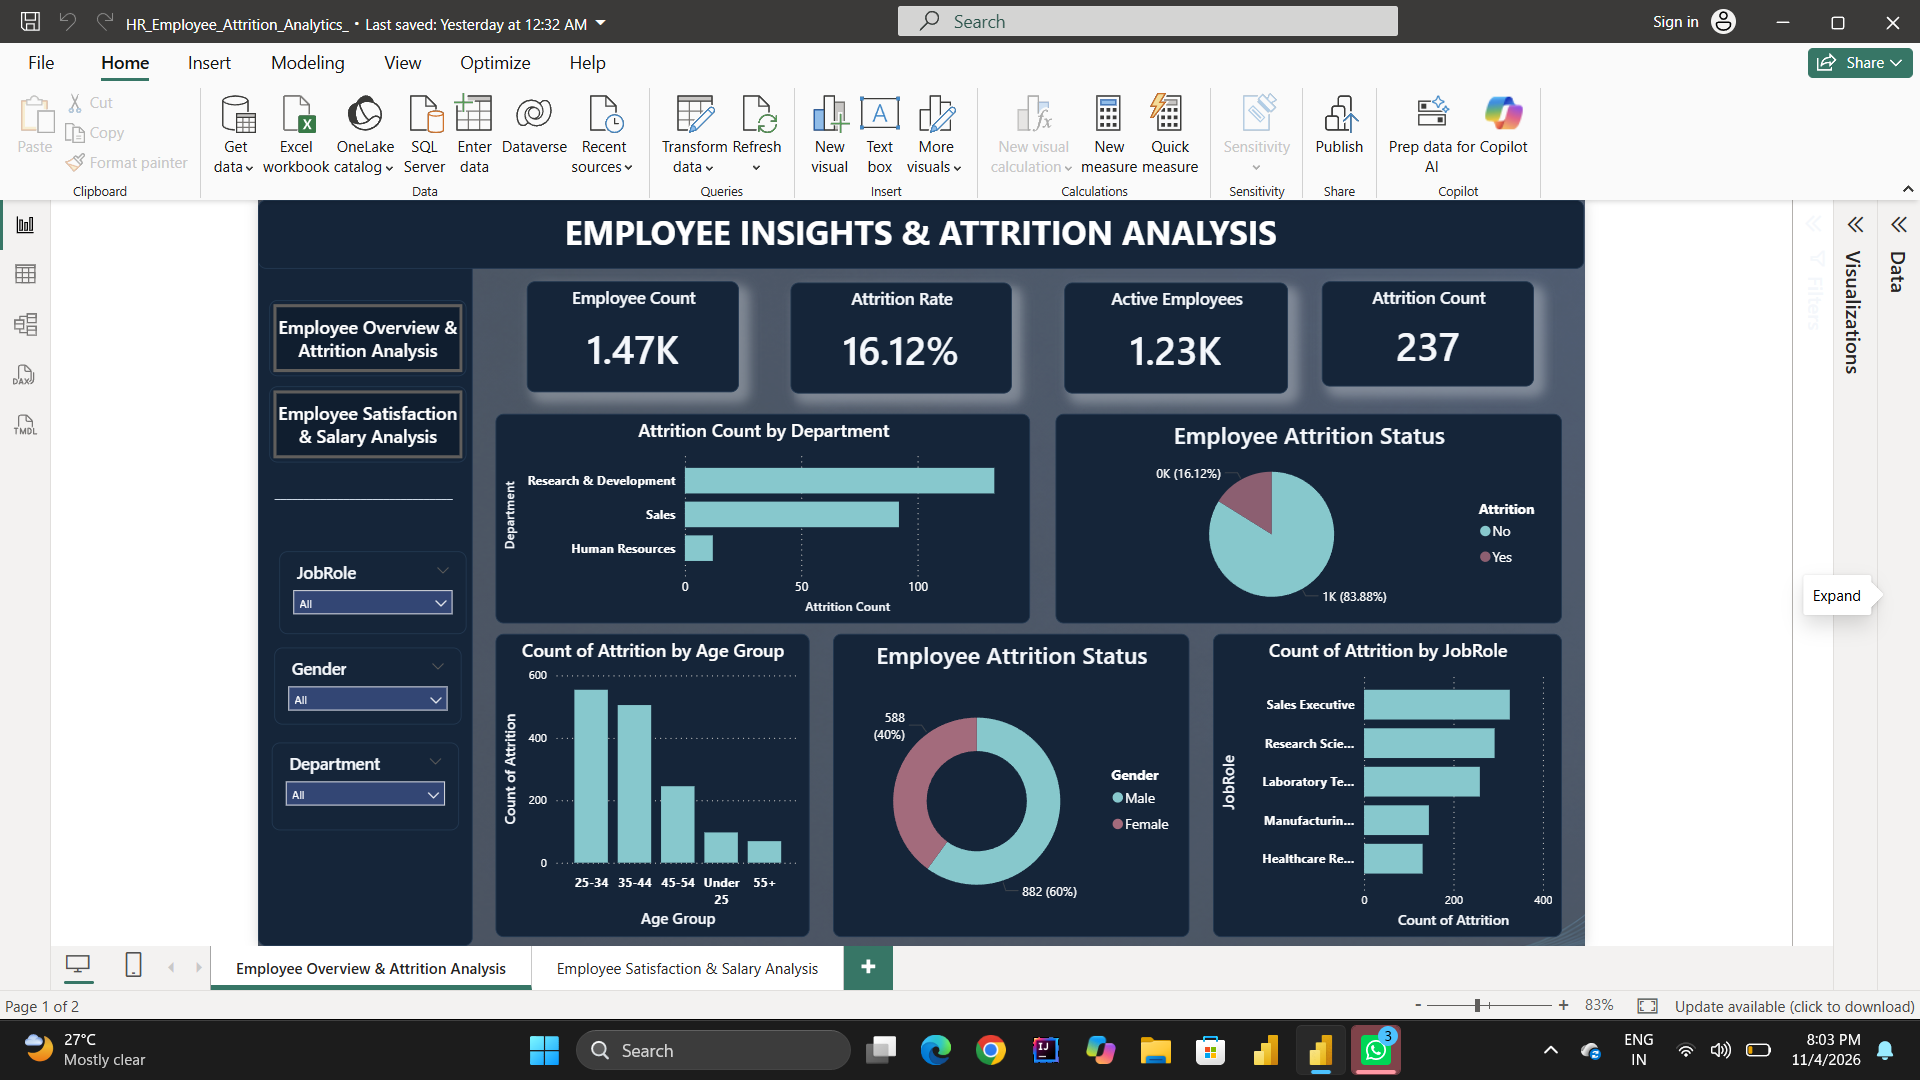

The page's visual inventory and layout, read from the dashboard file:
{"tool":"powerbi","page":{"name":"Employee Overview & Attrition Analysis","canvas":[1280,720],"ordinal":0},"visuals":[{"type":"cardVisual","title":"Active Employees","fields":{"Data":["EmployeeData.Active Employees"]},"box":[778.2,79.6,216,107.4],"z":0},{"type":"cardVisual","title":"Attrition Count","fields":{"Data":["EmployeeData.Attrition Count"]},"box":[1026.7,78.4,205.1,101.3],"z":1000},{"type":"cardVisual","title":"Attrition Rate","fields":{"Data":["EmployeeData.Attrition Rate"]},"box":[513.9,79.6,213.5,107.4],"z":2000},{"type":"cardVisual","title":"Employee Count","fields":{"Data":["EmployeeData.Employee Count"]},"box":[259.4,78.4,205.1,107.4],"z":3000},{"type":"pieChart","title":"Employee Attrition Status","fields":{"Category":["EmployeeData.Attrition"],"Y":["EmployeeData.Employee Count"]},"box":[769.7,206.3,488.6,202.7],"z":4000},{"type":"clusteredBarChart","fields":{"Category":["EmployeeData.Department"],"Y":["EmployeeData.Attrition Count"]},"box":[229.2,206.3,516.4,202.7],"z":5000},{"type":"donutChart","title":"Employee Attrition Status","fields":{"Category":["EmployeeData.Gender"],"Y":["CountNonNull(EmployeeData.Attrition)"]},"box":[555,418.6,343.8,293.2],"z":6000},{"type":"clusteredBarChart","fields":{"Category":["EmployeeData.JobRole"],"Y":["CountNonNull(EmployeeData.Attrition)"]},"box":[921.7,418.6,336.6,293.2],"z":7000},{"type":"clusteredColumnChart","fields":{"Category":["EmployeeData.Age Group"],"Y":["CountNonNull(EmployeeData.Attrition)"]},"box":[229.2,418.6,302.8,293.2],"z":8000},{"type":"textbox","box":[0,0,207.5,720.2],"z":9000},{"type":"textbox","box":[0,0,1280,66.2],"z":10000},{"type":"slicer","fields":{"Values":["EmployeeData.JobRole"]},"box":[20.5,339,181,79.6],"z":11000},{"type":"slicer","fields":{"Values":["EmployeeData.Gender"]},"box":[15.7,431.9,181,74.8],"z":12000},{"type":"slicer","fields":{"Values":["EmployeeData.Department"]},"box":[13.3,523.6,181,84.5],"z":13000},{"type":"actionButton","box":[10.9,96.5,190.6,73.6],"z":14000},{"type":"actionButton","box":[10.9,179.8,190.6,73.6],"z":15000}]}

Visuals, with their boxes on the page's 1280x720 design canvas (x1, y1, x2, y2). These are canvas units, not pixel positions in the 1920x1080 screenshot, which may show the page scaled, cropped or inside an application window:
"Active Employees" cardVisual: region(778, 80, 994, 187)
"Attrition Count" cardVisual: region(1027, 78, 1232, 180)
"Attrition Rate" cardVisual: region(514, 80, 727, 187)
"Employee Count" cardVisual: region(259, 78, 464, 186)
"Employee Attrition Status" pieChart: region(770, 206, 1258, 409)
clusteredBarChart - EmployeeData.Department x EmployeeData.Attrition Count: region(229, 206, 746, 409)
"Employee Attrition Status" donutChart: region(555, 419, 899, 712)
clusteredBarChart - EmployeeData.JobRole x CountNonNull(EmployeeData.Attrition): region(922, 419, 1258, 712)
clusteredColumnChart - EmployeeData.Age Group x CountNonNull(EmployeeData.Attrition): region(229, 419, 532, 712)
textbox: region(0, 0, 208, 720)
textbox: region(0, 0, 1280, 66)
slicer - EmployeeData.JobRole: region(20, 339, 202, 419)
slicer - EmployeeData.Gender: region(16, 432, 197, 507)
slicer - EmployeeData.Department: region(13, 524, 194, 608)
actionButton: region(11, 96, 202, 170)
actionButton: region(11, 180, 202, 253)
